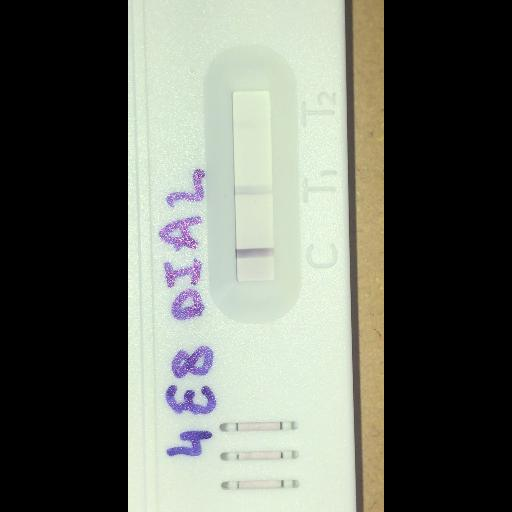Pos: (128, 0, 357, 511)
